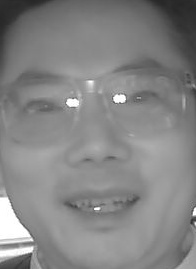eye: (24, 97, 61, 116), (127, 88, 159, 107)
glass: (99, 66, 185, 135), (4, 77, 85, 144)
mouth: (55, 178, 140, 227)
